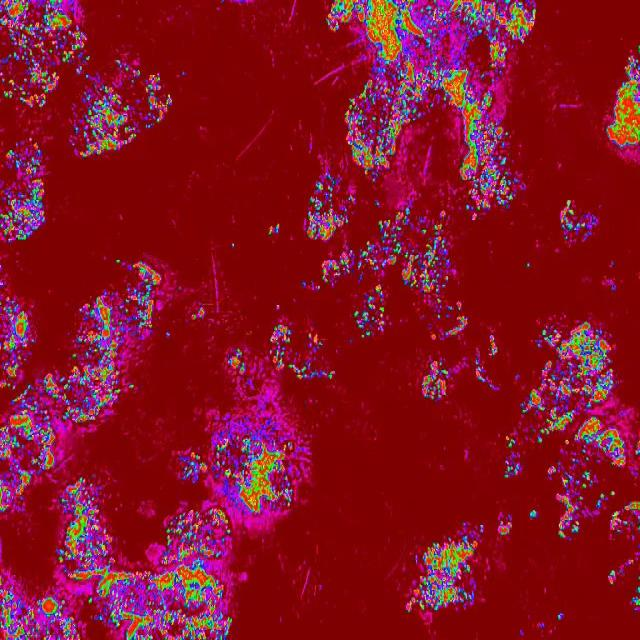fire: (452, 78, 520, 214), (0, 0, 87, 105), (98, 572, 232, 640), (326, 0, 536, 42), (214, 419, 300, 515), (405, 518, 484, 618), (536, 319, 616, 411), (0, 390, 61, 510), (345, 78, 418, 174), (388, 206, 452, 310), (58, 477, 112, 579), (60, 340, 124, 426), (158, 508, 232, 574), (0, 138, 46, 243), (548, 466, 604, 542), (89, 78, 140, 158), (0, 594, 78, 640), (604, 54, 640, 150), (306, 174, 355, 240), (370, 44, 471, 76), (77, 284, 133, 340), (0, 296, 34, 388), (576, 415, 624, 465), (132, 259, 162, 333), (316, 248, 366, 288), (140, 72, 170, 128), (418, 359, 452, 402), (558, 198, 590, 242), (606, 500, 640, 541), (416, 77, 454, 113), (366, 280, 389, 338), (538, 412, 575, 446), (366, 221, 388, 275), (174, 451, 208, 484), (470, 354, 500, 390), (290, 358, 336, 381), (269, 321, 290, 371), (500, 438, 520, 482), (70, 111, 88, 157), (225, 346, 246, 376), (488, 42, 508, 72), (111, 58, 138, 78), (443, 318, 469, 338), (493, 514, 512, 541), (352, 310, 367, 338), (629, 575, 640, 611), (522, 388, 536, 413), (306, 333, 324, 351), (42, 370, 58, 390), (192, 308, 210, 322), (0, 575, 14, 593), (489, 332, 500, 353), (267, 222, 282, 236), (300, 281, 316, 294), (633, 437, 640, 463), (605, 569, 614, 587), (555, 610, 565, 622), (530, 509, 538, 523), (524, 258, 532, 272), (456, 300, 463, 315), (164, 330, 173, 340), (371, 173, 380, 183), (435, 312, 443, 323), (115, 256, 123, 266), (128, 383, 135, 393), (610, 488, 616, 498), (274, 302, 280, 312), (374, 199, 381, 207), (0, 279, 5, 289), (230, 242, 236, 250), (480, 72, 485, 79), (636, 45, 640, 53), (89, 596, 92, 602)
